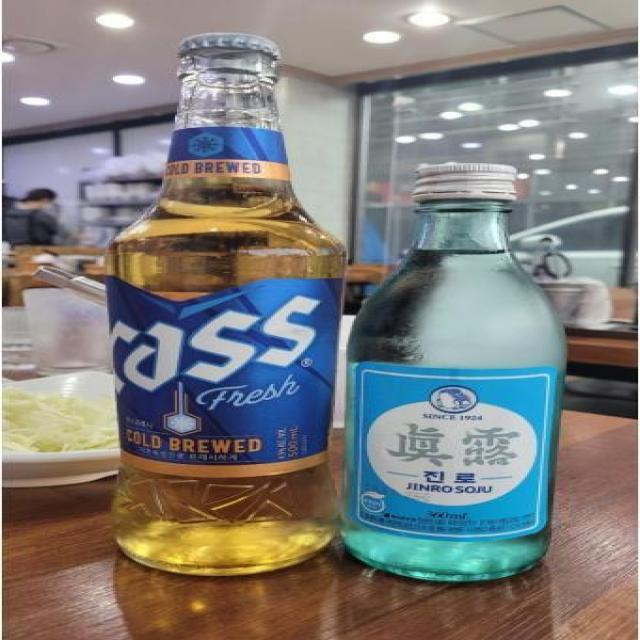beer-bottle: (112, 34, 338, 586)
soju-bottle: (349, 160, 571, 585)
